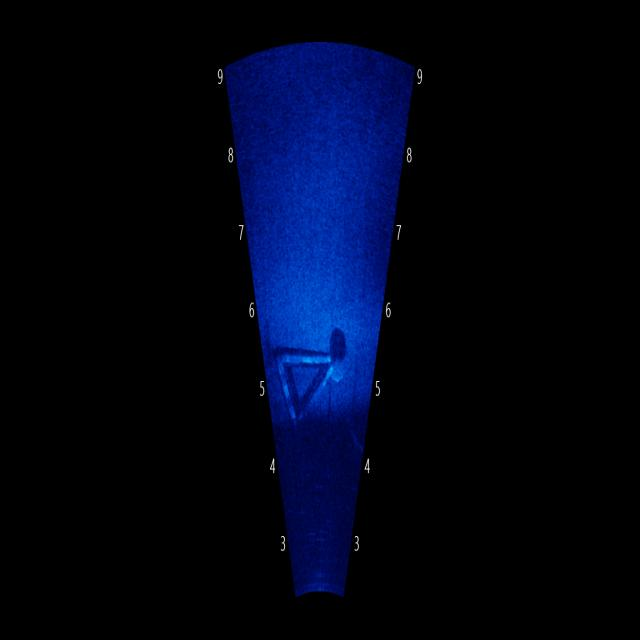triangle: (266, 299, 354, 427)
